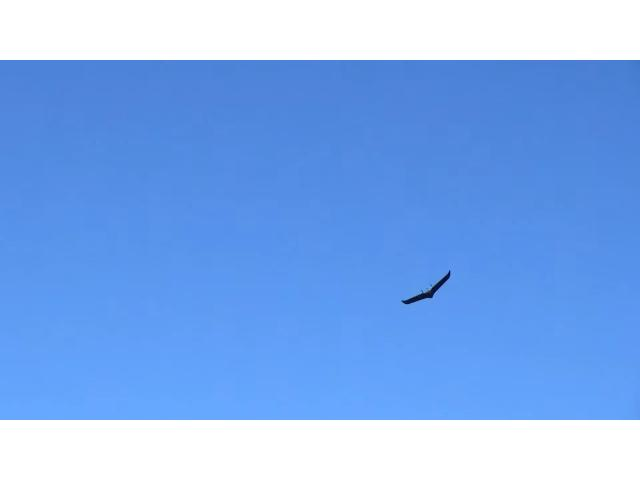Anti-Drone: (394, 256, 468, 328)
